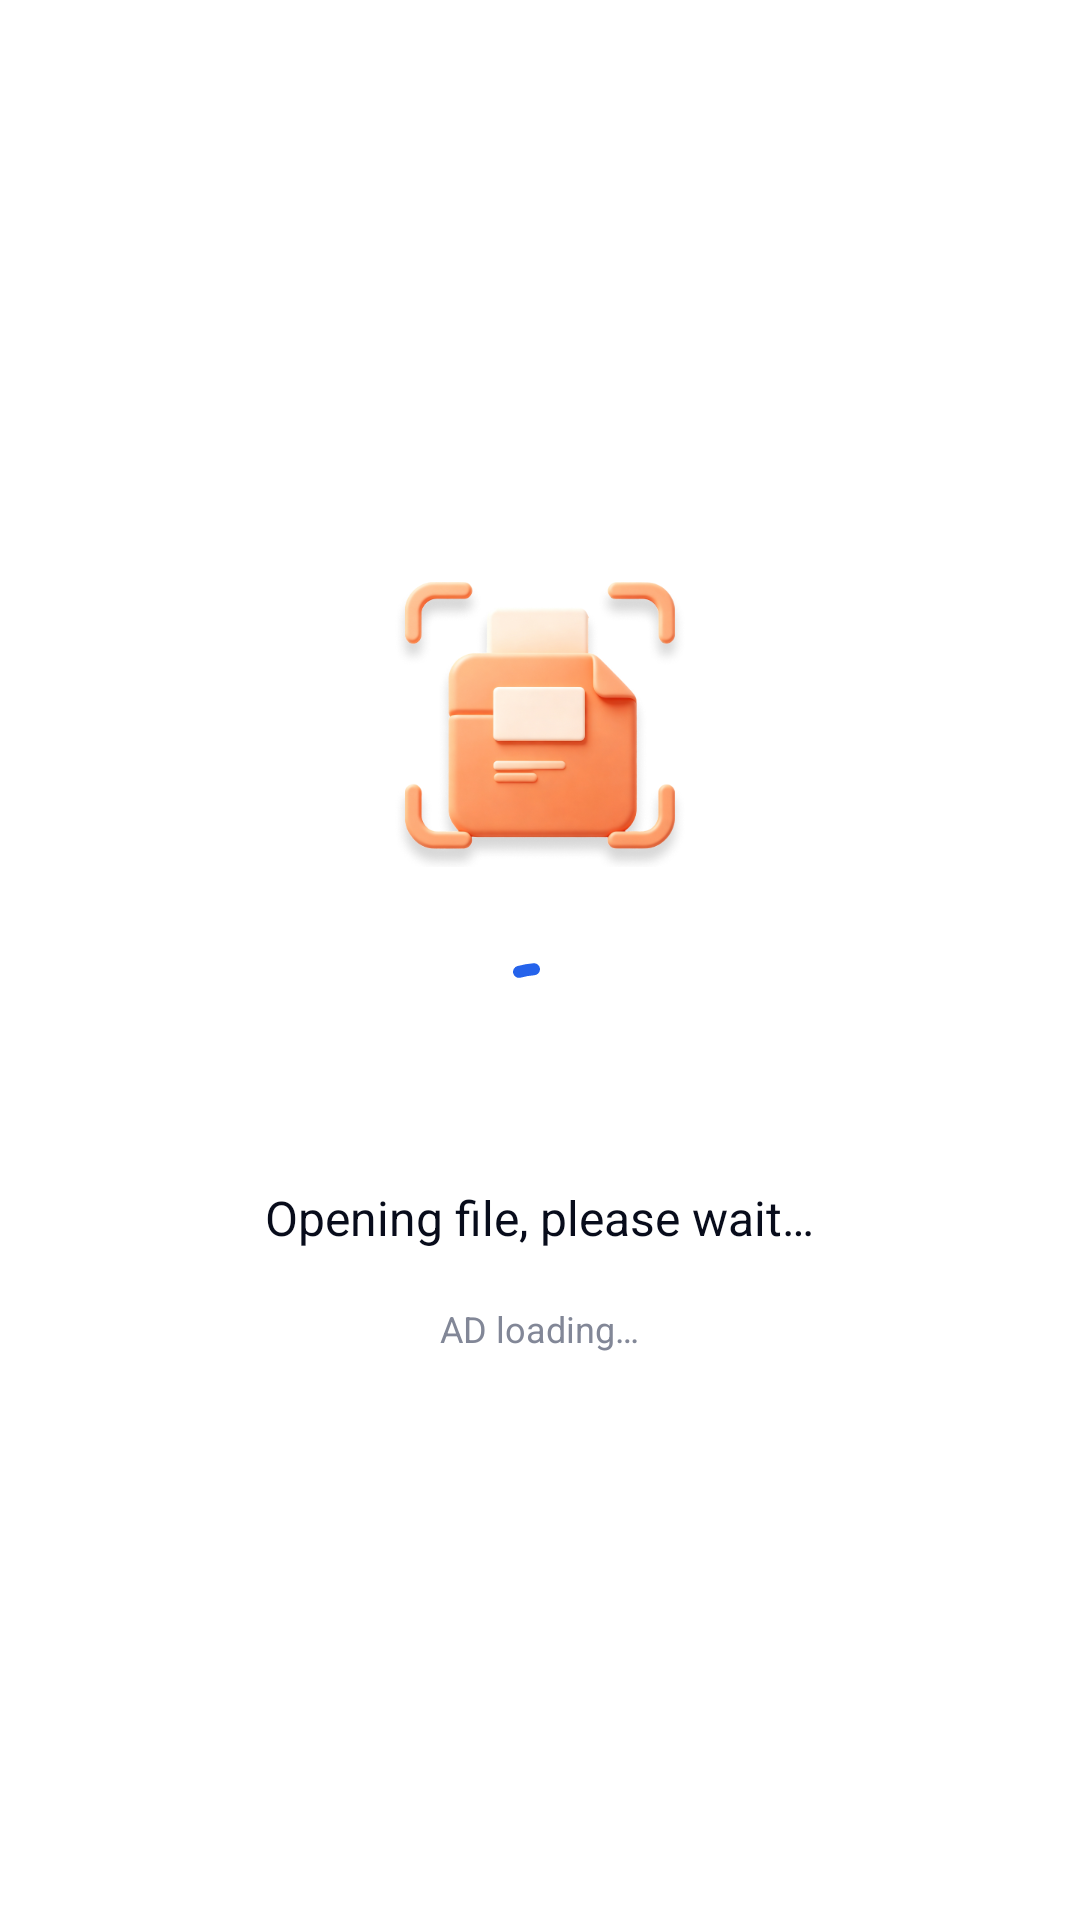

Point at icon controls on the screen. Image size 1080x1920, points as (x=x, y=y).
scan: (x=540, y=721)
